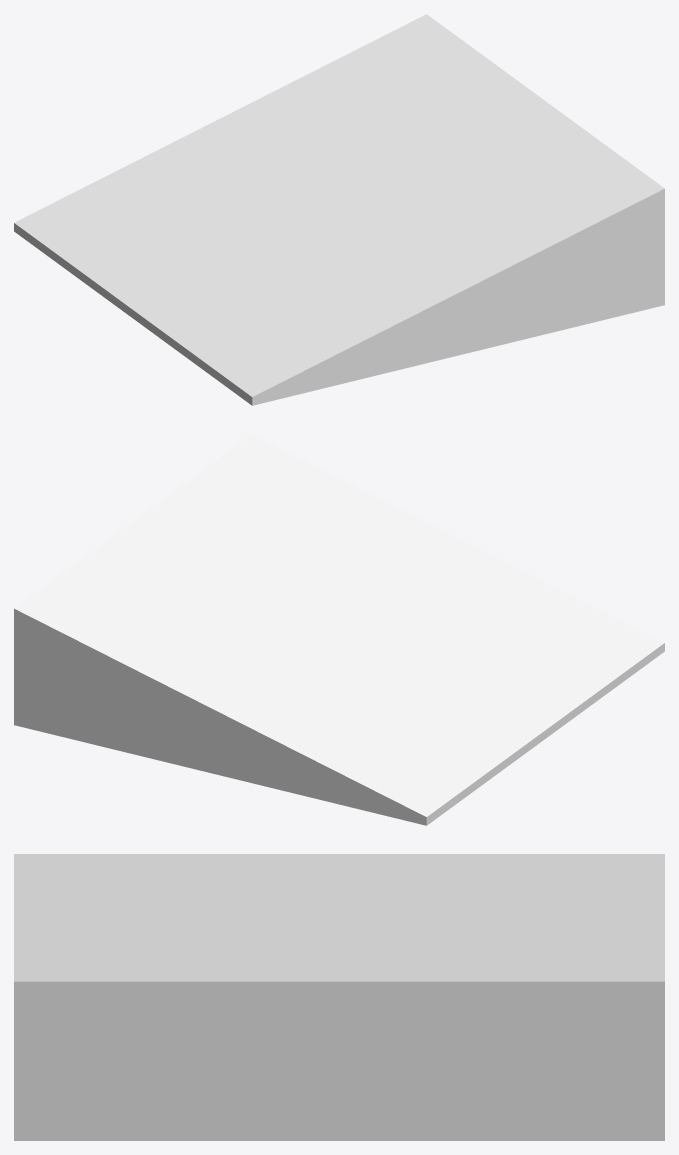
Rendered from tile-slant.glb.
3 renders of one model, top to bottom at view 1: azimuth 30°, elevation 25°; view 2: azimuth 150°, elevation 25°; view 3: azimuth 270°, elevation 25°, orthographic. The views are drawn at different scales.
Parts seen in each view (by area): view 1: tile-slant; view 2: tile-slant; view 3: tile-slant.
Boxes of the visible parts, x1=… form: tile-slant: x1=14, y1=14, x2=664, y2=405; tile-slant: x1=14, y1=434, x2=664, y2=825; tile-slant: x1=14, y1=854, x2=664, y2=1140.
Size of the model in its own units: 1 by 0.27 by 1.
Materials: 1 (1 with a texture image).
